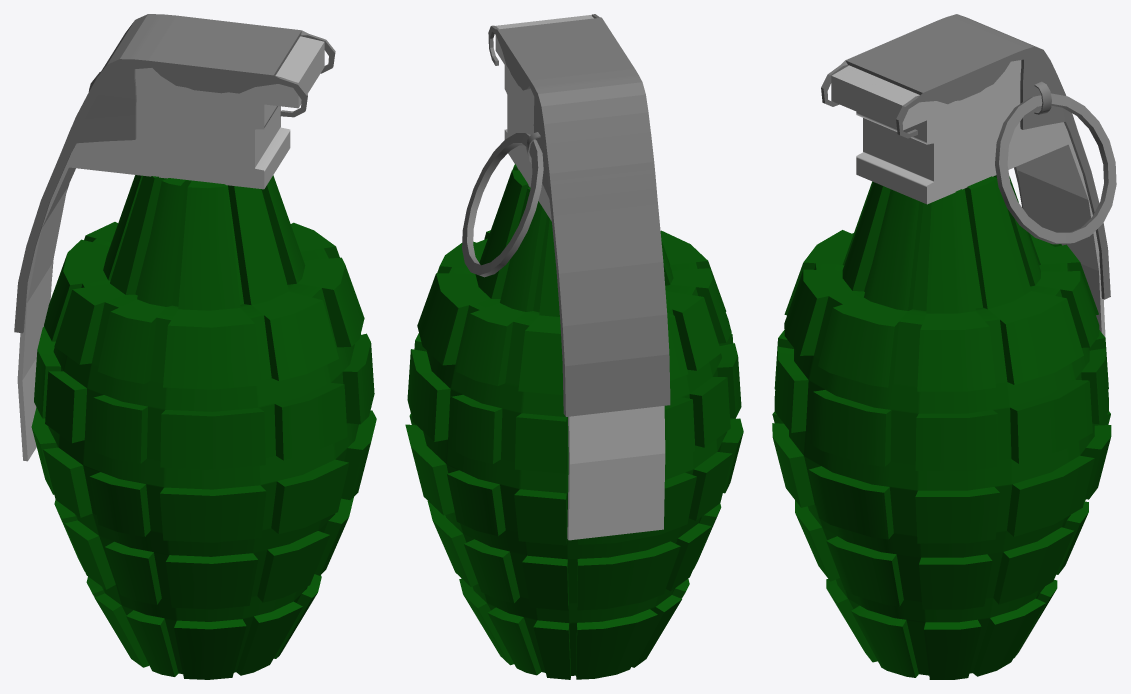
The model's file is Grenade.gltf.
The picture shows the model from 3 angles, left to right: view 1: azimuth 30°, elevation 25°; view 2: azimuth 150°, elevation 25°; view 3: azimuth 270°, elevation 25°; orthographic projection. The views are drawn at different scales.
Visible parts, largest first — view 1: pCube5; view 2: pCube5; view 3: pCube5.
Boxes of the visible parts, left/top/right/bottom form: pCube5: left=14, top=14, right=376, bottom=679; pCube5: left=405, top=14, right=743, bottom=679; pCube5: left=772, top=14, right=1116, bottom=679.
Size of the model in its own units: 9.37 by 18.25 by 9.52.
